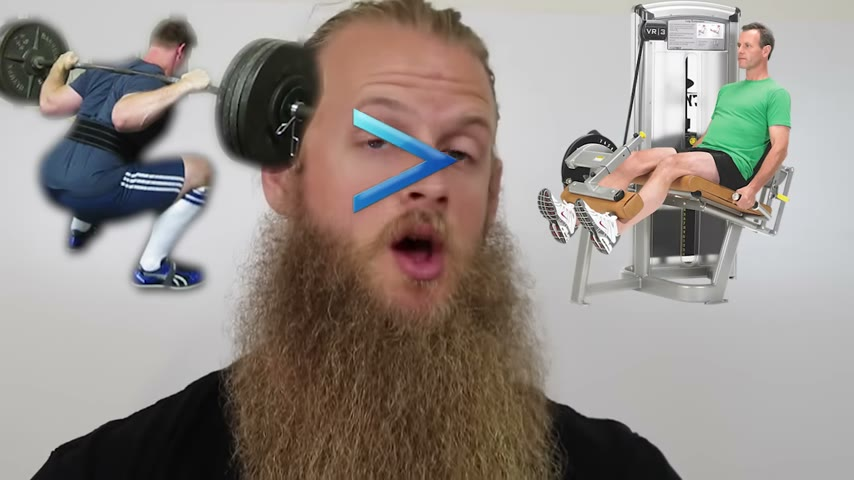barbell_plate_side: (529, 117, 619, 253)
